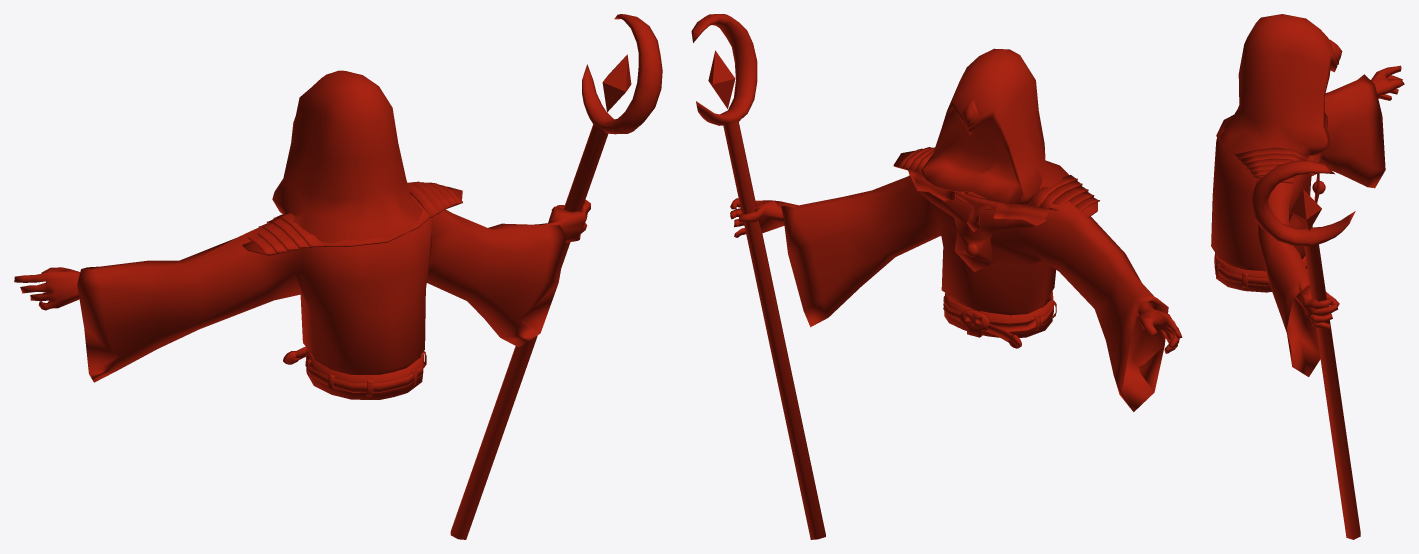
File: top_000010.obj
The picture shows the model from 3 angles, left to right: view 1: azimuth 30°, elevation 25°; view 2: azimuth 150°, elevation 25°; view 3: azimuth 270°, elevation 25°; orthographic projection. The views are drawn at different scales.
Visible parts, largest first — view 1: LowPoly_Warlock.000_Plane.005; view 2: LowPoly_Warlock.000_Plane.005; view 3: LowPoly_Warlock.000_Plane.005.
Boxes of the visible parts, left/top/right/bottom form: LowPoly_Warlock.000_Plane.005: left=14, top=14, right=662, bottom=539; LowPoly_Warlock.000_Plane.005: left=691, top=14, right=1182, bottom=539; LowPoly_Warlock.000_Plane.005: left=1211, top=14, right=1404, bottom=539.
Size of the model in its own units: 2.16 by 1.91 by 0.7327.
